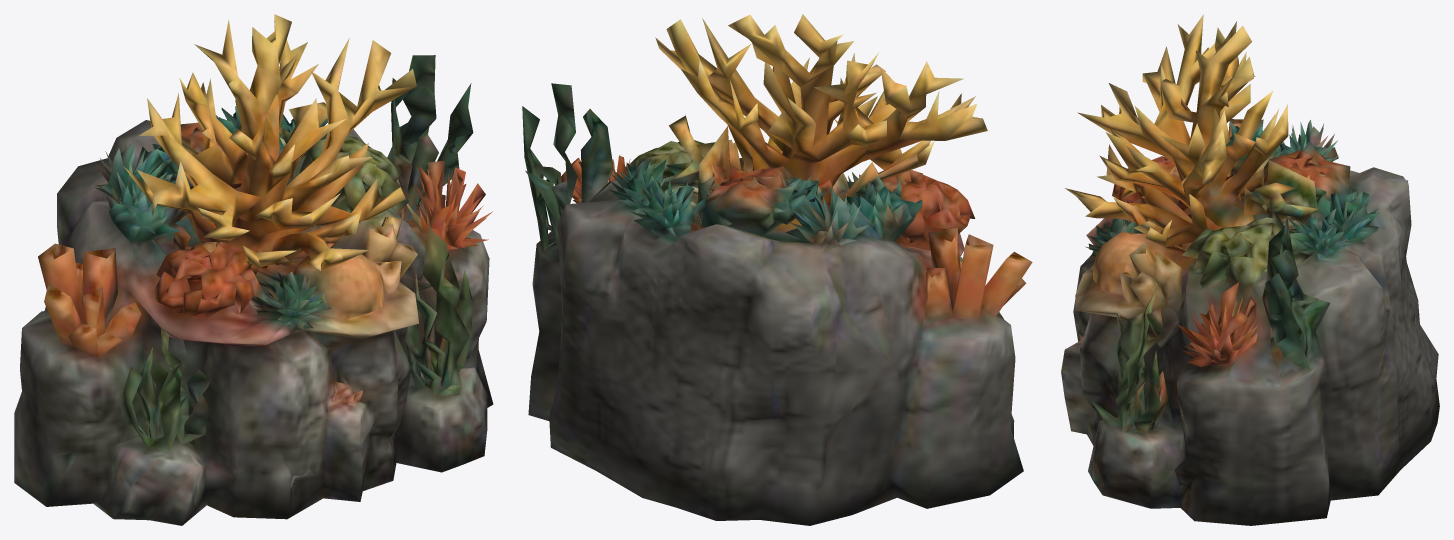
The model's file is coral2.glb.
3 renders of one model, left to right at view 1: azimuth 30°, elevation 25°; view 2: azimuth 150°, elevation 25°; view 3: azimuth 270°, elevation 25°, orthographic. The views are drawn at different scales.
Visible parts, largest first — view 1: prop_lo; view 2: prop_lo; view 3: prop_lo.
Part boxes in pixels (x1,y1,x2,y2): prop_lo: (14, 14, 493, 525); prop_lo: (522, 14, 1032, 525); prop_lo: (1061, 14, 1439, 525).
Bounding box in the file's own units: 1.91 × 1.65 × 1.45.
1 material, 1 textured.
